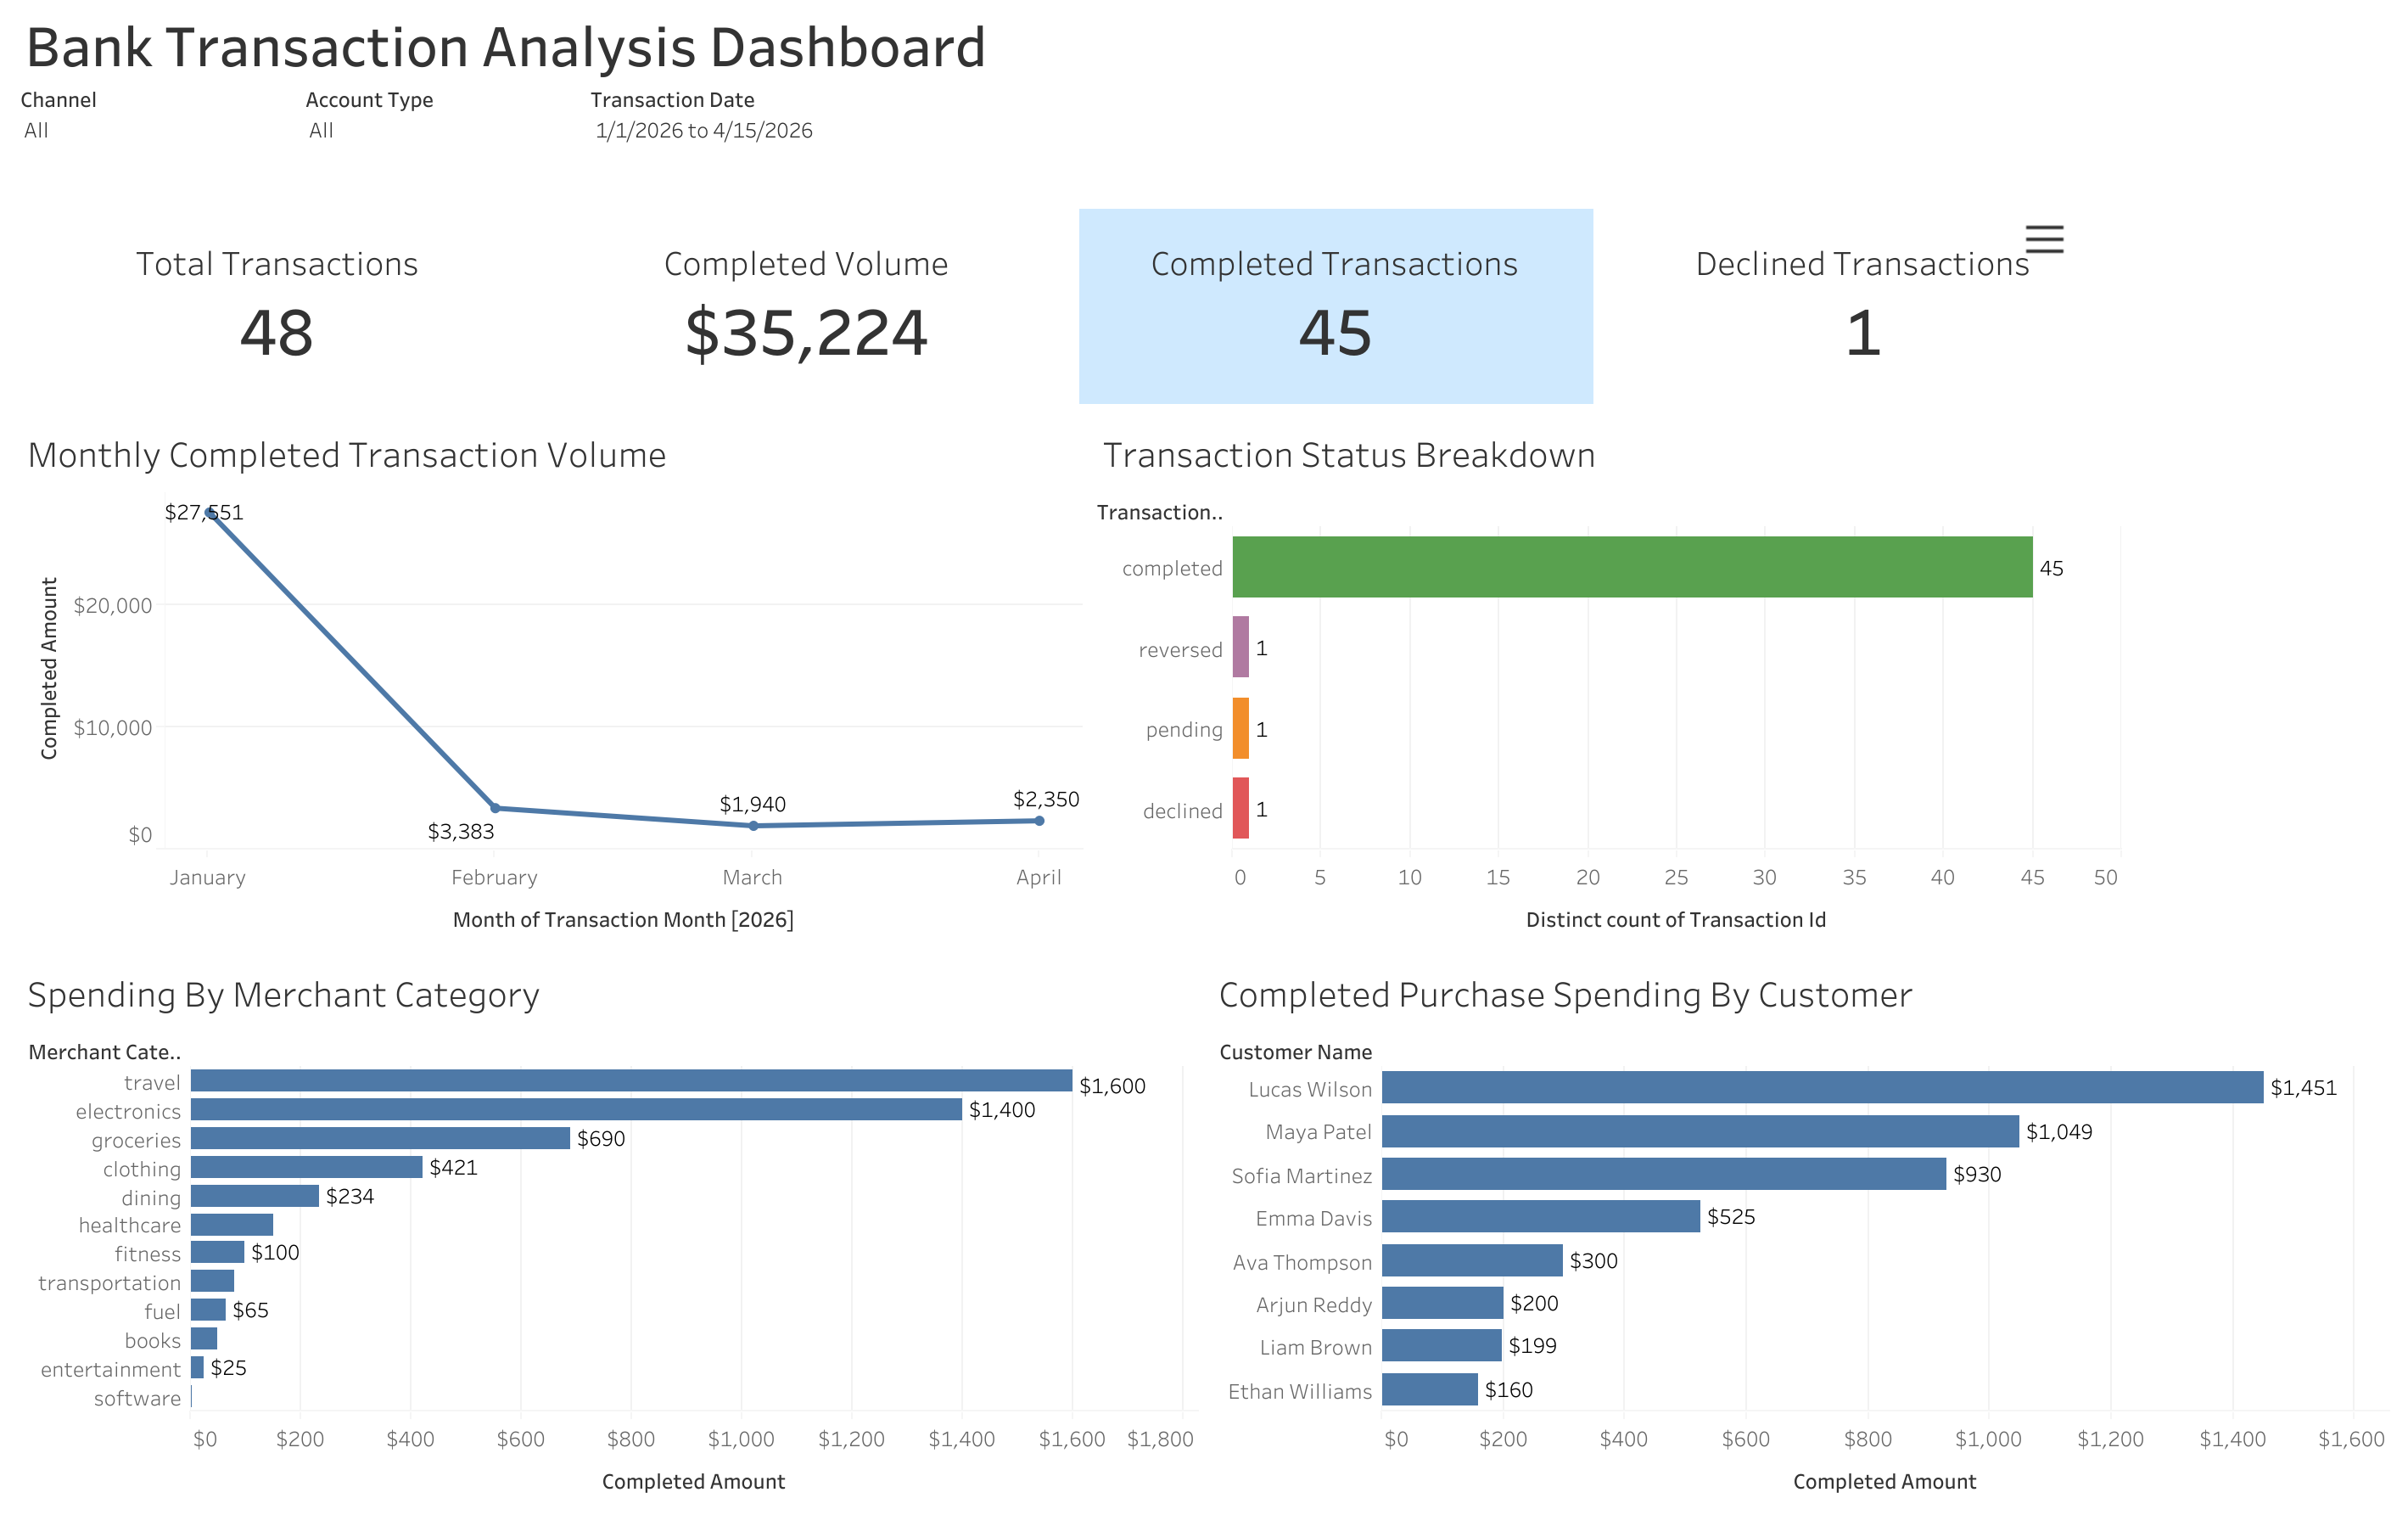

Layout of this report page (visuals, bound fields, positions):
{"tool":"tableau","page":{"name":"Bank Transaction Analysis Dashboard","canvas":[1000,1000],"units":"permille","ordinal":0},"visuals":[{"type":"title","box":[6.2,8.9,864.5,40]},{"type":"filter","title":"Monthly Completed Transaction Volume","param":"[federated.18icrn90twdf3j16h12660jq4zpe].[none:channel:nk]","box":[6.2,48.9,130.8,83.7]},{"type":"filter","title":"Monthly Completed Transaction Volume","param":"[federated.18icrn90twdf3j16h12660jq4zpe].[none:account_type:nk]","box":[137.1,48.9,130.8,83.7]},{"type":"filter","title":"Monthly Completed Transaction Volume","param":"[federated.18icrn90twdf3j16h12660jq4zpe].[none:transaction_date:qk]","box":[267.9,48.9,602.8,83.7]},{"type":"worksheet","title":"KPI - Total Transactions","mark":"Automatic","box":[6.2,132.2,216.5,137.8]},{"type":"worksheet","title":"KPI - Completed Amount","mark":"Automatic","box":[222.7,132.2,216.5,137.8]},{"type":"worksheet","title":"KPI - Completed Transactions","mark":"Automatic","box":[439.2,132.2,215.7,137.8]},{"type":"worksheet","title":"KPI - Declined Transactions","mark":"Automatic","box":[655,132.2,215.7,137.8]},{"type":"legend","title":"Transaction Status Breakdown","param":"[federated.18icrn90twdf3j16h12660jq4zpe].[none:transaction_status:nk]","box":[870.7,132.6,123,108.4]},{"type":"dashboard-object","box":[839.6,143.3,18.7,26.7]},{"type":"worksheet","title":"Monthly Completed Transaction Volume","mark":"Automatic","rows":["completed_amount"],"cols":["transaction_month"],"box":[6.2,270.4,493.8,352.9]},{"type":"worksheet","title":"Transaction Status Breakdown","mark":"Automatic","rows":["transaction_status"],"cols":["transaction_id"],"box":[500,270.4,370.7,352.9]},{"type":"worksheet","title":"Spending By Merchant Category","mark":"Automatic","rows":["merchant_category"],"cols":["completed_amount"],"box":[6.2,623.3,493.8,367.8]},{"type":"worksheet","title":"Completed Purchase Spending By Customer","mark":"Automatic","rows":["customer_name"],"cols":["completed_amount"],"box":[500,623.3,493.8,367.8]}]}

Visuals, with their boxes on the dashboard's canvas, which has no fixed pixel size, in thousandths of its width and height (x1, y1, x2, y2). These are canvas units, not pixel positions in the 2408x1526 screenshot, which may show the page scaled, cropped or inside an application window:
title: region(6, 9, 871, 49)
"Monthly Completed Transaction Volume" filter: region(6, 49, 137, 133)
"Monthly Completed Transaction Volume" filter: region(137, 49, 268, 133)
"Monthly Completed Transaction Volume" filter: region(268, 49, 871, 133)
"KPI - Total Transactions" worksheet: region(6, 132, 223, 270)
"KPI - Completed Amount" worksheet: region(223, 132, 439, 270)
"KPI - Completed Transactions" worksheet: region(439, 132, 655, 270)
"KPI - Declined Transactions" worksheet: region(655, 132, 871, 270)
"Transaction Status Breakdown" legend: region(871, 133, 994, 241)
dashboard-object: region(840, 143, 858, 170)
"Monthly Completed Transaction Volume" worksheet: region(6, 270, 500, 623)
"Transaction Status Breakdown" worksheet: region(500, 270, 871, 623)
"Spending By Merchant Category" worksheet: region(6, 623, 500, 991)
"Completed Purchase Spending By Customer" worksheet: region(500, 623, 994, 991)
